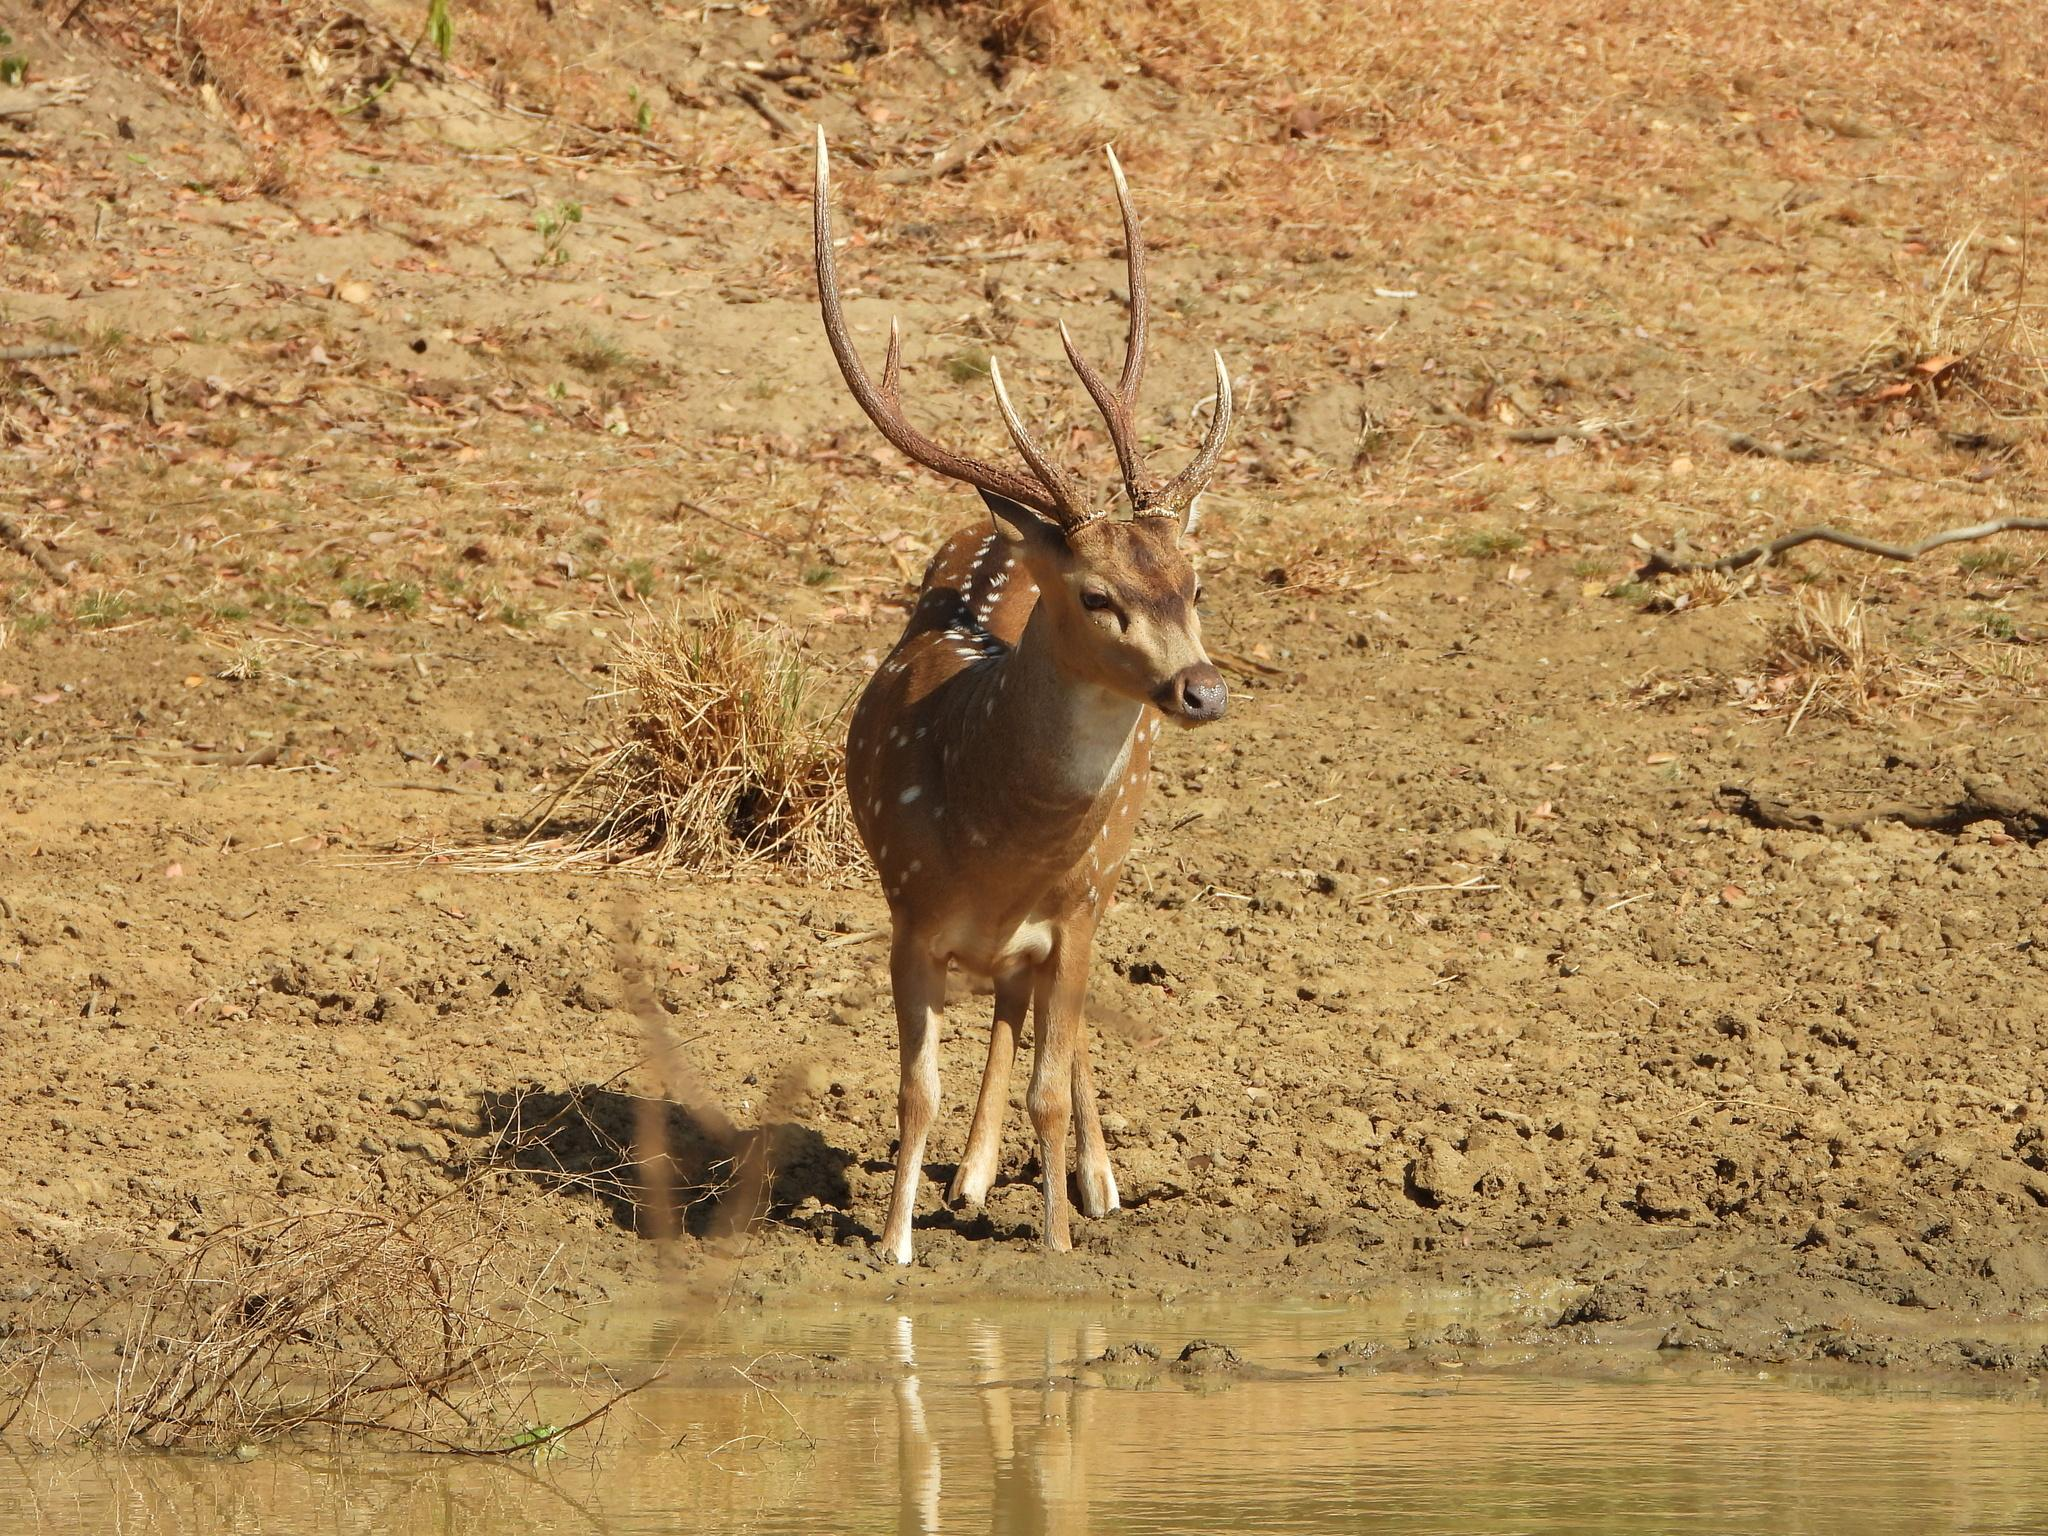Deer: (813, 131, 1232, 1263)
